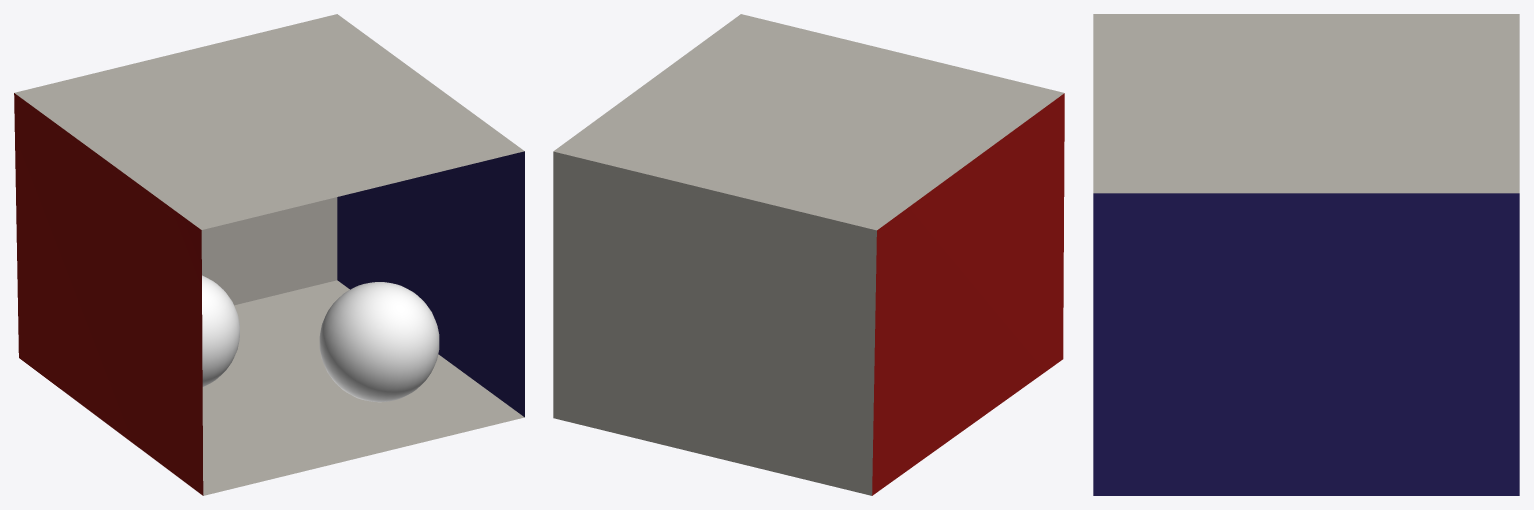
File: CornellBox-Sphere.obj
3 renders of one model, left to right at view 1: azimuth 30°, elevation 25°; view 2: azimuth 150°, elevation 25°; view 3: azimuth 270°, elevation 25°, orthographic. The views are drawn at different scales.
Visible parts, largest first — view 1: ceiling, leftWall, floor, rightWall, rightSphere, backWall, leftSphere; view 2: backWall, ceiling, leftWall; view 3: rightWall, ceiling.
Part boxes in pixels (left/top/right/bottom): ceiling: left=14, top=14, right=524, bottom=229; leftWall: left=14, top=93, right=203, bottom=495; floor: left=202, top=280, right=524, bottom=495; rightWall: left=337, top=151, right=524, bottom=417; rightSphere: left=319, top=282, right=439, bottom=402; backWall: left=201, top=197, right=337, bottom=305; leftSphere: left=202, top=275, right=239, bottom=386; backWall: left=553, top=151, right=876, bottom=495; ceiling: left=553, top=14, right=1064, bottom=230; leftWall: left=872, top=93, right=1064, bottom=495; rightWall: left=1093, top=193, right=1519, bottom=495; ceiling: left=1093, top=14, right=1519, bottom=193.
Bounding box in the file's own units: 2.02 × 1.59 × 2.03.
